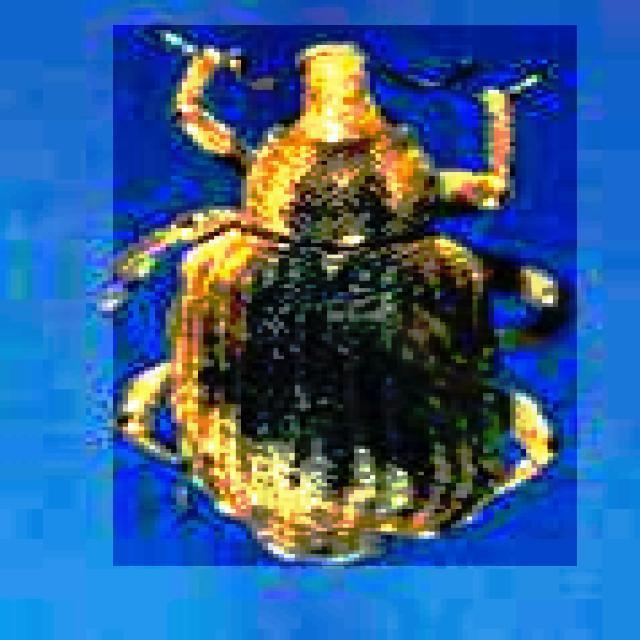rice-bug: (114, 25, 578, 566)
